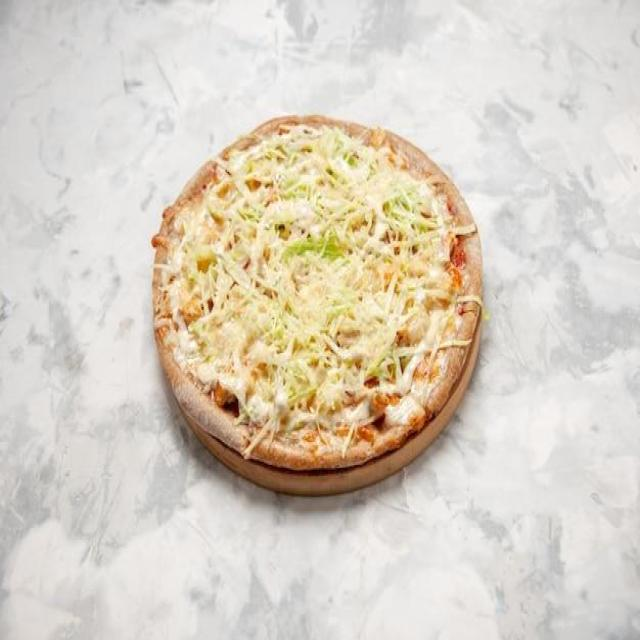pizza: (151, 114, 482, 473)
